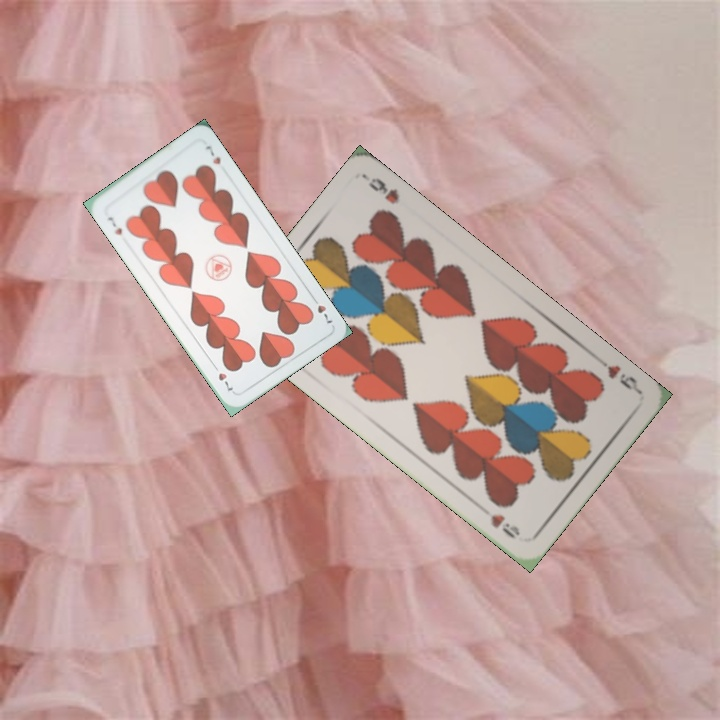H7: (307, 292, 335, 326), (103, 212, 125, 237)
H9: (592, 353, 642, 395)
